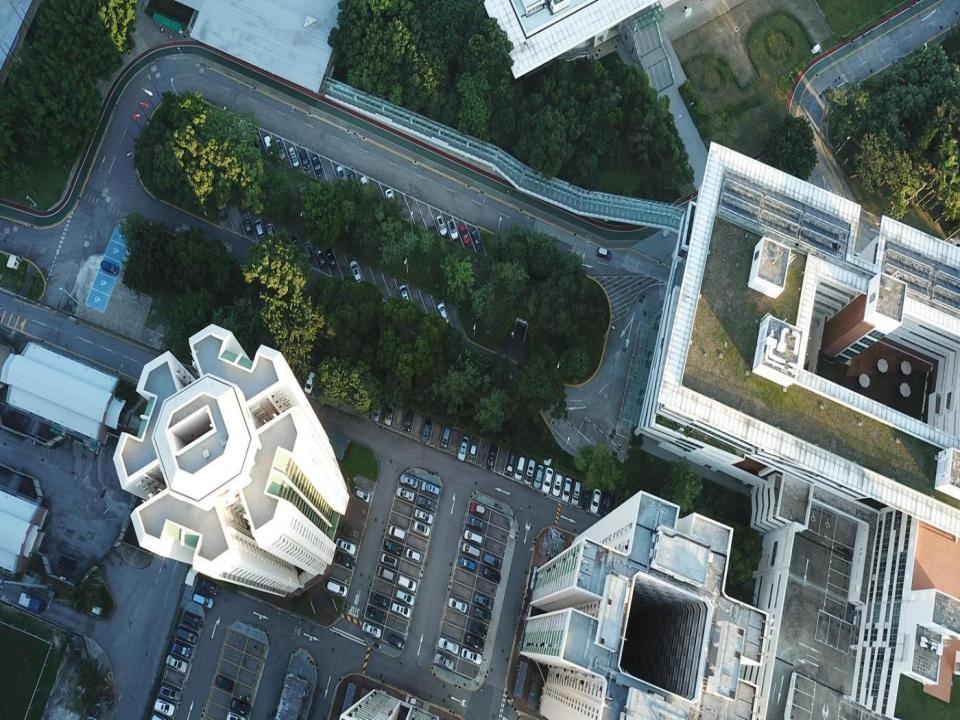car: (166, 655, 188, 674), (335, 537, 357, 555), (154, 698, 175, 716), (231, 697, 251, 715), (485, 444, 498, 471), (363, 621, 382, 639), (434, 653, 454, 670), (369, 591, 389, 608), (438, 638, 459, 654), (560, 476, 572, 503), (448, 597, 467, 614), (461, 648, 481, 664), (542, 467, 554, 493), (465, 632, 483, 649), (397, 575, 416, 591), (417, 495, 436, 511), (336, 554, 356, 569), (366, 606, 386, 621), (396, 487, 416, 502), (420, 417, 432, 442), (172, 642, 190, 658), (482, 567, 500, 583), (471, 228, 483, 252), (371, 398, 383, 422), (457, 436, 469, 460), (160, 685, 179, 700), (469, 621, 488, 636), (473, 607, 492, 622), (465, 514, 484, 529), (590, 488, 601, 513), (413, 520, 430, 536), (474, 593, 492, 608), (415, 509, 433, 524), (438, 302, 449, 326), (349, 262, 361, 284), (360, 176, 371, 200), (446, 218, 459, 238), (202, 579, 218, 595), (441, 425, 452, 448), (533, 465, 544, 488), (402, 411, 414, 432), (601, 493, 611, 518), (288, 146, 299, 168), (302, 240, 313, 262), (436, 214, 447, 236), (384, 404, 396, 424), (400, 474, 418, 487), (264, 136, 275, 157), (552, 473, 562, 496), (582, 484, 591, 509), (388, 635, 404, 649), (312, 156, 322, 178), (399, 284, 409, 305), (385, 189, 395, 210), (459, 223, 469, 244), (470, 503, 486, 516), (406, 548, 422, 561), (459, 558, 476, 570), (252, 128, 262, 148), (276, 139, 285, 161), (253, 219, 264, 237), (596, 248, 612, 260), (300, 150, 310, 169), (265, 222, 275, 241), (290, 236, 300, 255), (326, 249, 336, 268), (355, 490, 370, 502), (348, 171, 358, 189), (611, 494, 619, 516), (336, 165, 346, 182), (315, 248, 324, 266), (226, 711, 246, 719), (470, 437, 478, 456), (244, 216, 252, 234)
truck: (17, 592, 44, 616)
van: (182, 611, 203, 629), (176, 628, 198, 645), (523, 459, 537, 485), (214, 674, 234, 691), (327, 581, 348, 597), (384, 539, 403, 556), (464, 529, 484, 545), (193, 593, 214, 608), (237, 118, 250, 142), (377, 566, 396, 582), (422, 481, 441, 497), (461, 543, 480, 558), (388, 525, 408, 539), (514, 456, 525, 481), (100, 260, 118, 275), (380, 552, 398, 567), (304, 372, 316, 393), (484, 554, 502, 568), (571, 480, 581, 505), (506, 450, 516, 474), (217, 200, 226, 220)
